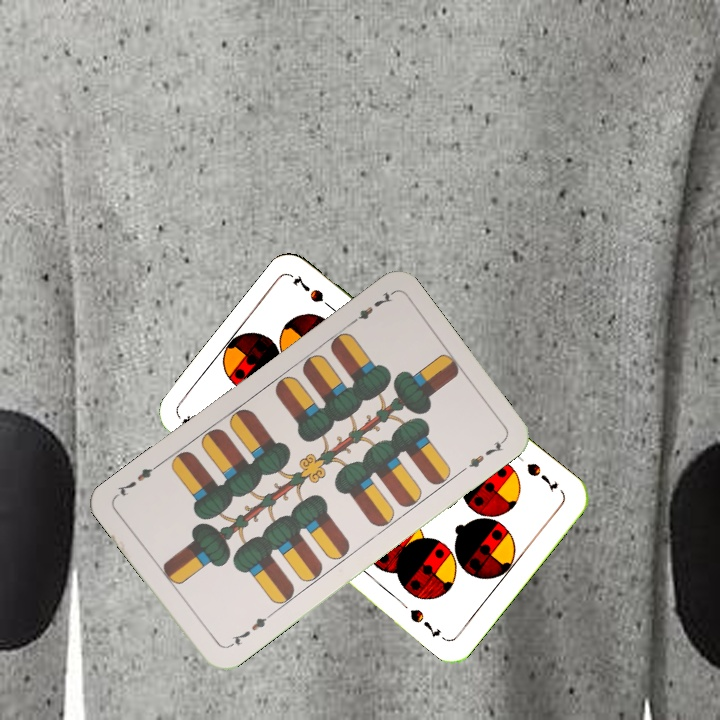E7: (223, 610, 274, 651), (344, 287, 395, 328)
S7: (522, 459, 561, 494)
